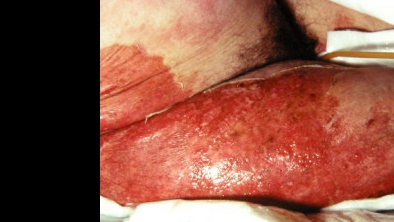SJS-TEN: (93, 23, 394, 218)
